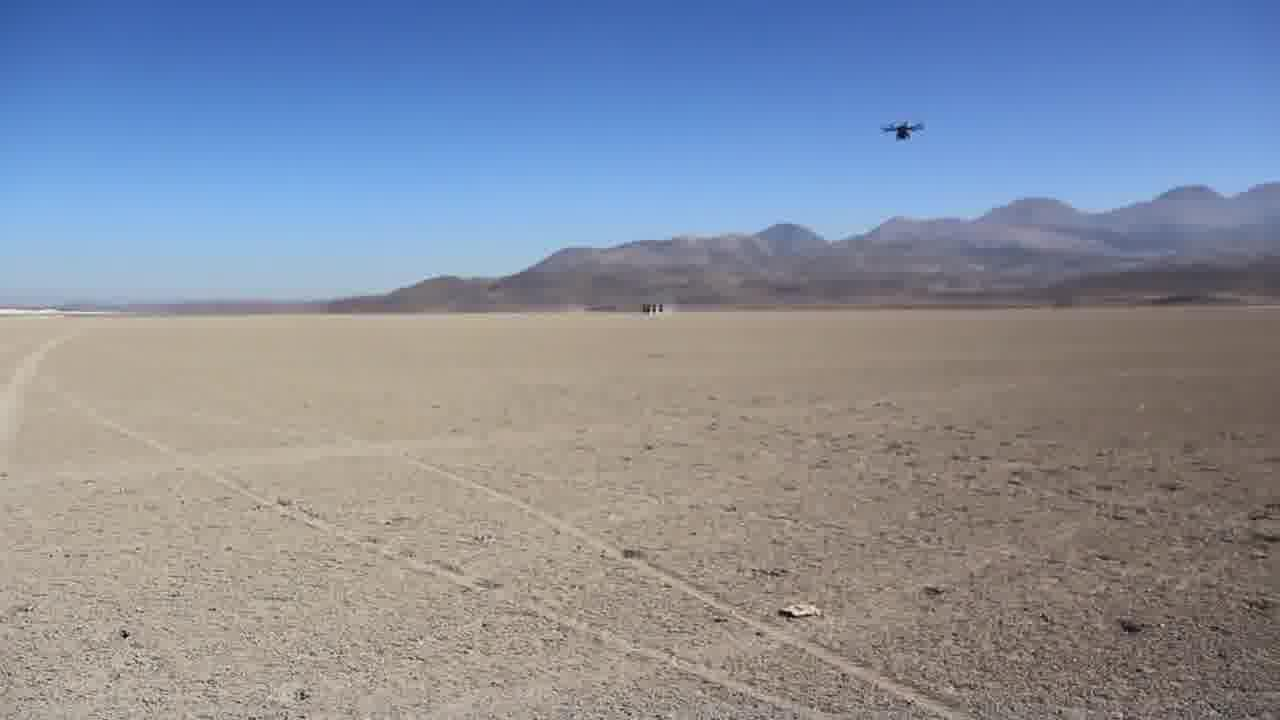drone: (874, 114, 929, 146)
